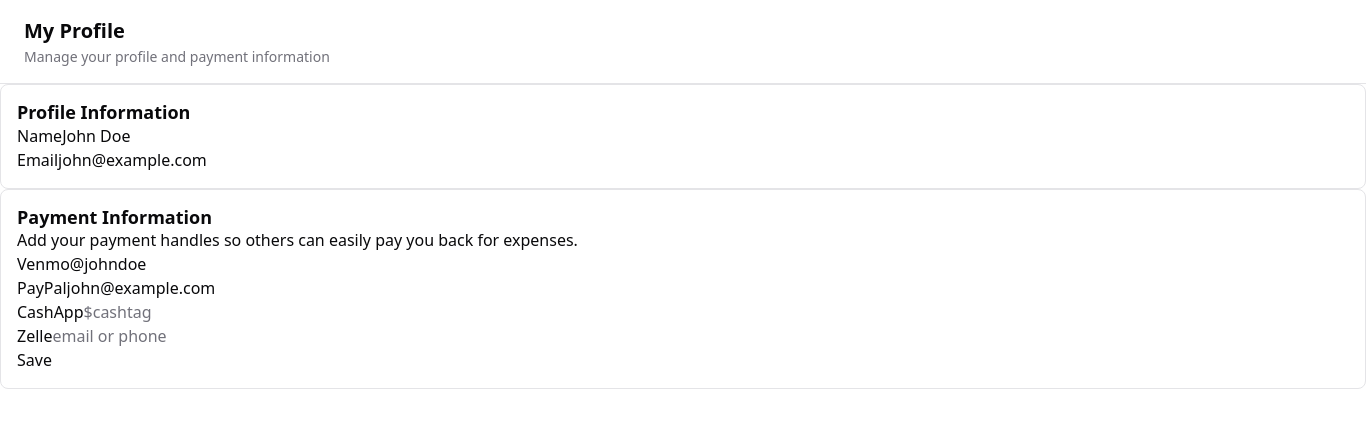
Test: ProfilePage › updating payment handles › should show success message after successful save
This screenshot has width=1366, height=430.
Step 1. Click the button "Save" → [34, 360], box [17,348,52,372]
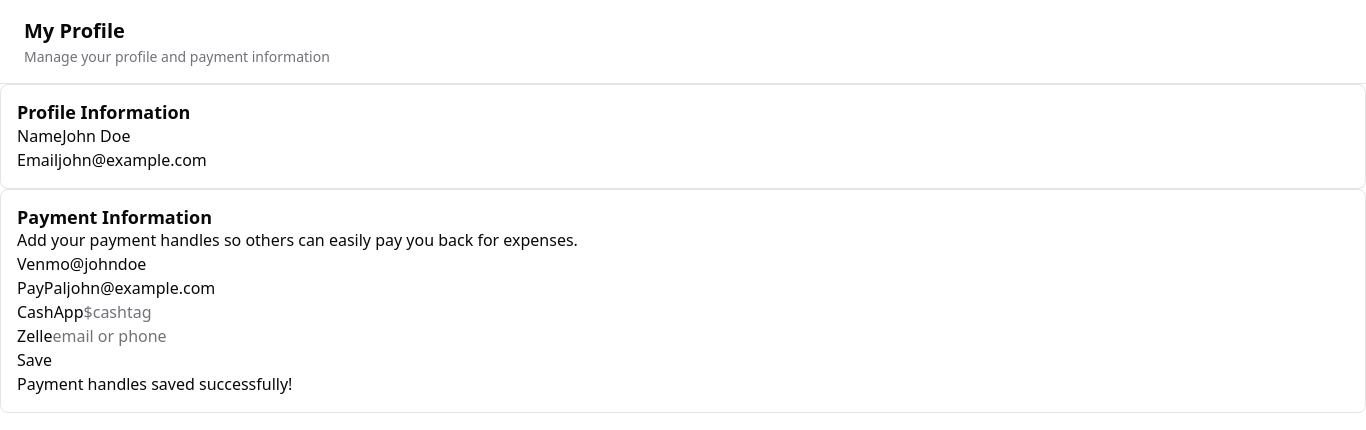
Result: the text "Payment handles saved successfully!" is shown at [17,373,292,395]
